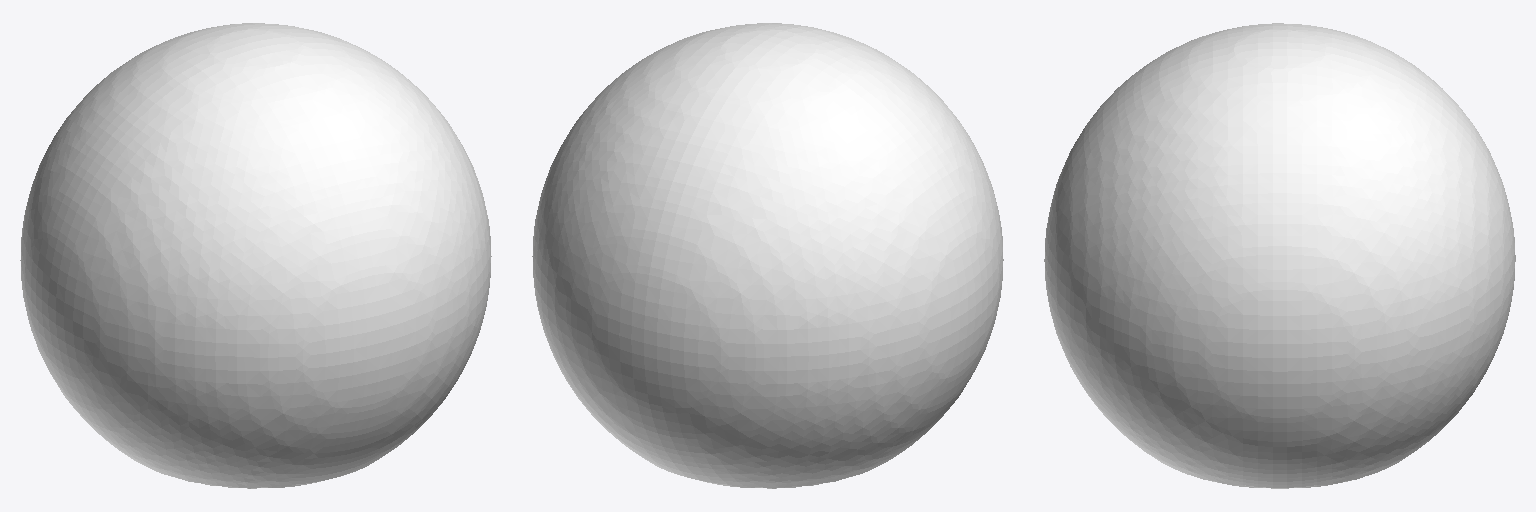
The robot description file, URDF, robot "custom":
<?xml version="1.0"?>
<robot name="custom">
  <material name="Blanc">
    <color rgba="1.0 1.0 1.0 1.0"/>
  </material>
  <link name="base_link">
    <visual>
      <origin xyz="0 0 0" rpy="0 0 0"/>
      <geometry>
        <mesh filename="handoff_sphere_small.obj" scale="1 1 1"/>
      </geometry>
      <material name="Blanc"/>
    </visual>
    <collision>
      <origin xyz="0 0 0" rpy="0 0 0"/>
      <geometry>
	 	     <mesh filename="handoff_sphere_small.obj" scale="1 1 1"/>
      </geometry>
    </collision>
    <contact>
      <lateral_friction value="5.0"/>
      <rolling_friction value="0.0001"/>
      <inertia_scaling value="3.0"/>
    </contact>
    <inertial>
      <origin rpy="0 0 0" xyz="0 0 0"/>
       <mass value="0.05"/>
       <inertia ixx="1" ixy="0" ixz="0" iyy="1" iyz="0" izz="1"/>
    </inertial>
  </link>

</robot>

--- Render facts (derived) ---
Views: 3 orthographic renders of the robot side by side, from view 1: azimuth 30°, elevation 25°; view 2: azimuth 150°, elevation 25°; view 3: azimuth 270°, elevation 25°.
Model custom with 1 links and 0 joints (none), rooted at base_link, posed every joint at zero.
Links seen in each view (by area): view 1: base_link; view 2: base_link; view 3: base_link.
Boxes of the visible links, box(x1,y1,x2,y2) form: base_link: box(20, 23, 491, 488); base_link: box(532, 23, 1003, 488); base_link: box(1044, 23, 1515, 488).
Size in the robot's own frame: 0.0404 by 0.0404 by 0.0365 metres.
Meshes: 1 distinct files referenced, 1 mesh visuals loaded (1 OBJ).
